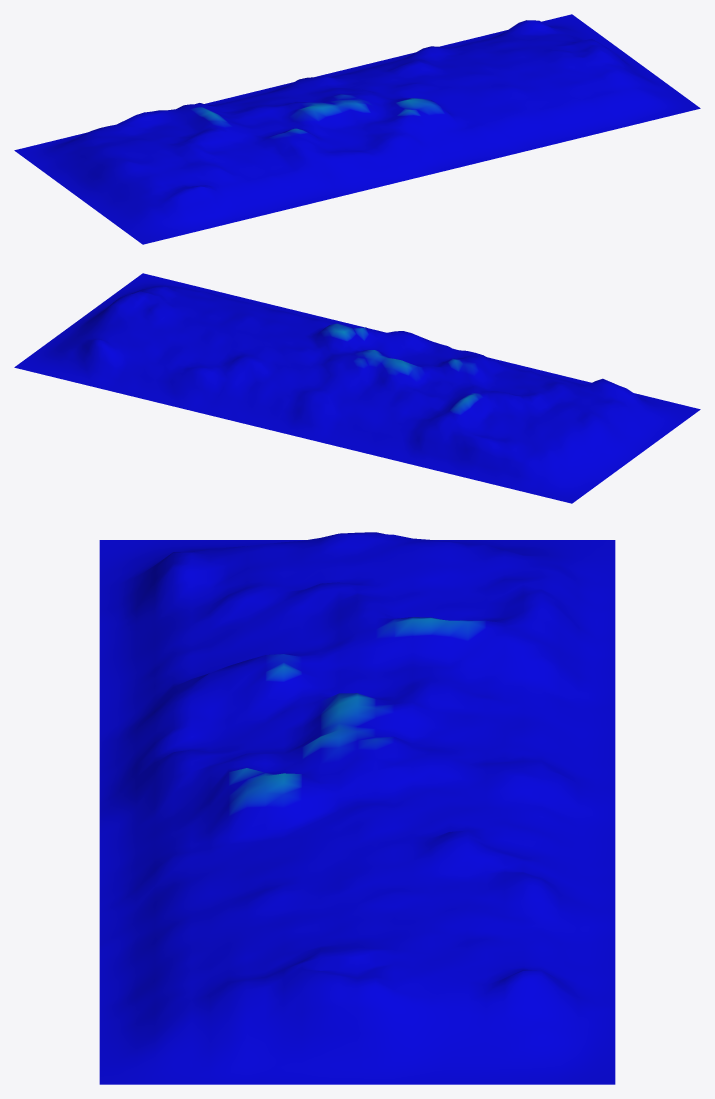
The model's file is reef_awash.glb.
The picture shows the model from 3 angles, top to bottom: view 1: azimuth 30°, elevation 25°; view 2: azimuth 150°, elevation 25°; view 3: azimuth 270°, elevation 25°; orthographic projection. The views are drawn at different scales.
Visible parts, largest first — view 1: reef_awash; view 2: reef_awash; view 3: reef_awash.
Boxes of the visible parts, <box> form: reef_awash: <box>14,14,700,244</box>; reef_awash: <box>14,273,700,503</box>; reef_awash: <box>99,532,615,1084</box>.
Size of what is drawn, in the model's own units: 40 by 2.4 by 16.
